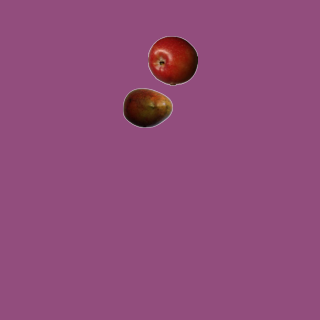Apple Braeburn: (147, 35, 197, 85)
Mango Red: (122, 82, 172, 132)
